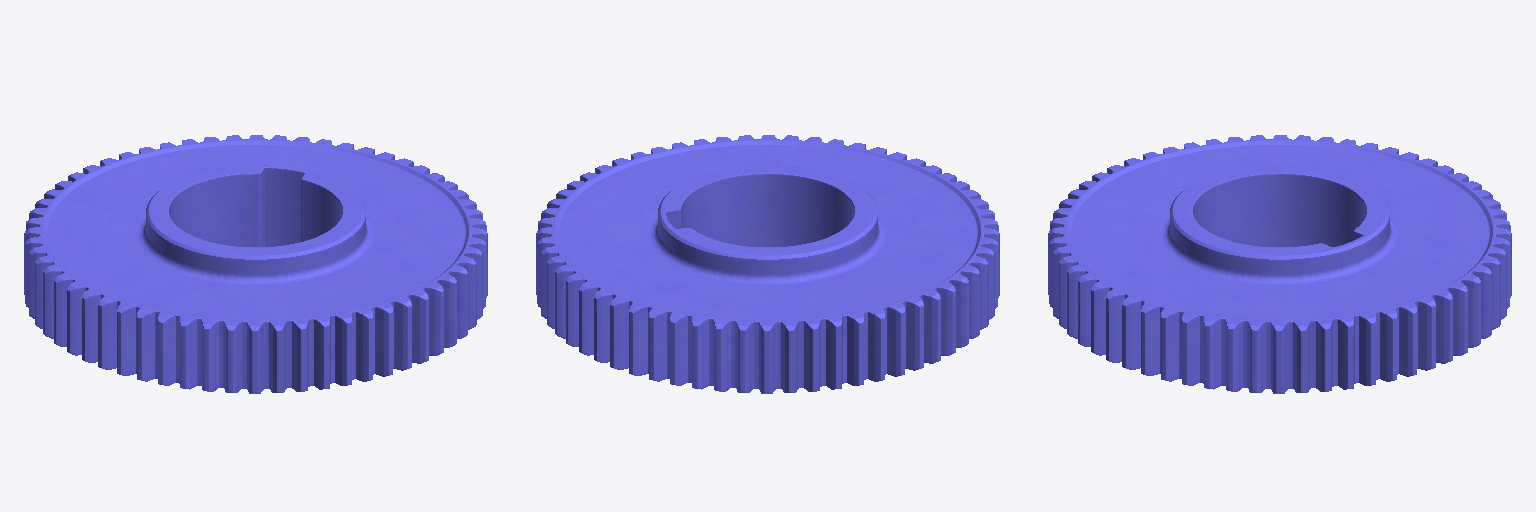
3 views of the same model, side by side, from view 1: azimuth 30°, elevation 25°; view 2: azimuth 150°, elevation 25°; view 3: azimuth 270°, elevation 25° (orthographic).
Visible parts, largest first — view 1: Gear2; view 2: Gear2; view 3: Gear2.
Part boxes in pixels (x1,y1,x2,y2): Gear2: (24, 135, 487, 393); Gear2: (536, 135, 999, 393); Gear2: (1048, 135, 1511, 393).
Size of the model in its own units: 18.14 by 3.93 by 18.14.
Materials: 1 (1 with a texture image).